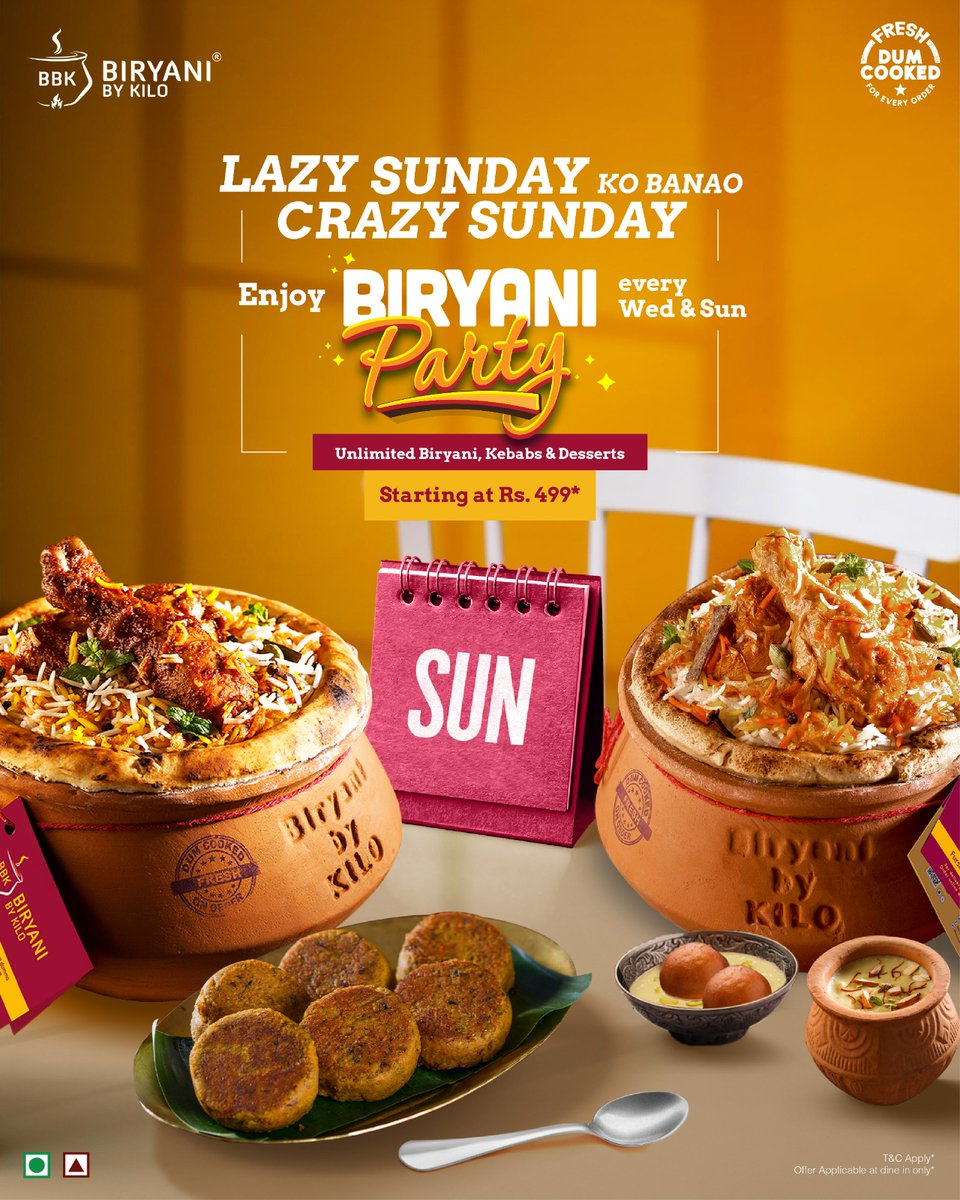CTA: (207, 268, 809, 468)
Headline: (197, 141, 781, 258)
Price: (372, 461, 599, 532)
Product: (601, 470, 957, 1112), (0, 485, 405, 982), (150, 894, 583, 1170)
logo: (10, 13, 261, 140)
